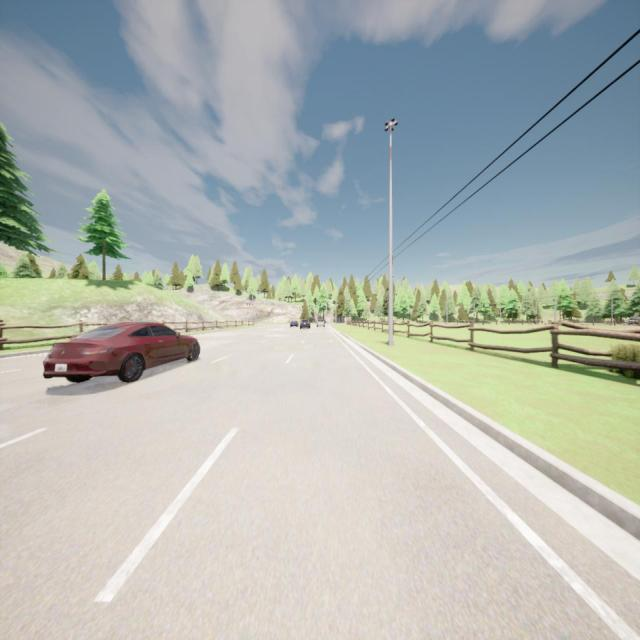Vehicle: (39, 321, 201, 383), (300, 318, 311, 332), (317, 318, 326, 329), (290, 318, 298, 330)
